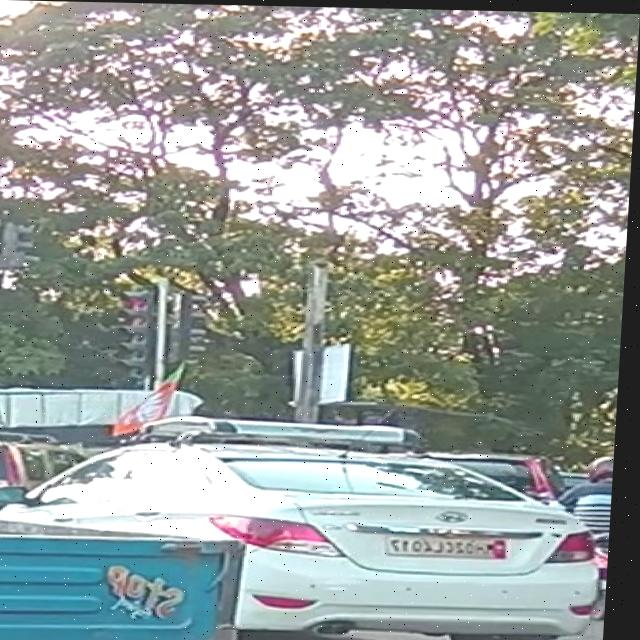plate: (389, 527, 521, 557)
